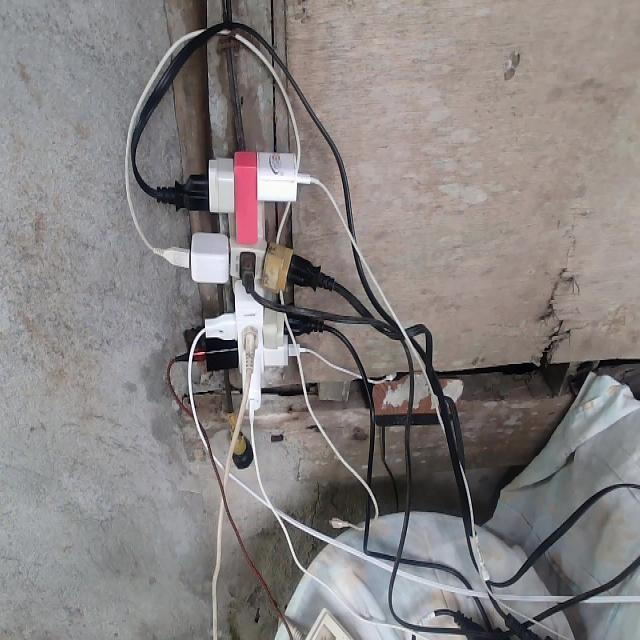-: (167, 147, 333, 413)
